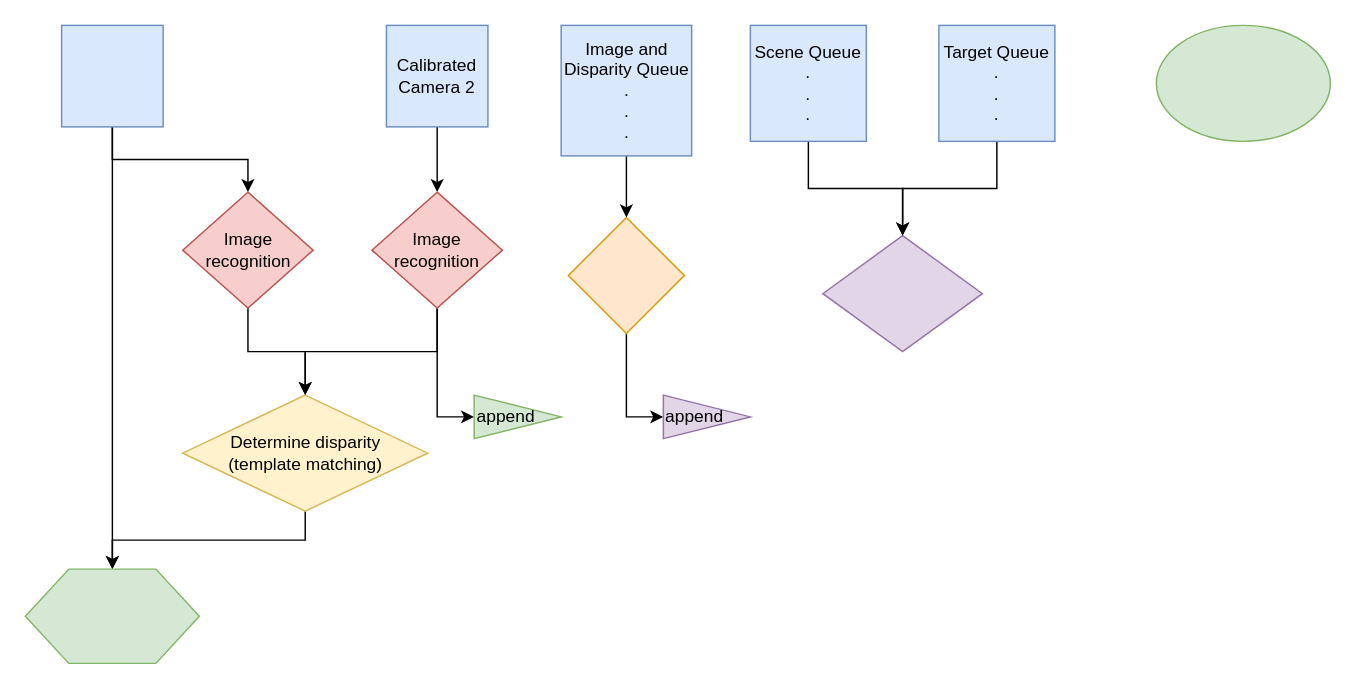
This 1356x689 diagram has some shape labels left out. Here are the shapes that lost their labels. From the top down, the box of each, then its label:
(60, 24, 163, 127): Calibrated Camera 1
(1155, 24, 1330, 141): Send path When requested
(567, 216, 684, 334): Model Scene
(821, 234, 982, 352): Edit Path
(24, 568, 199, 663): Add to Image and Disparity Queue
